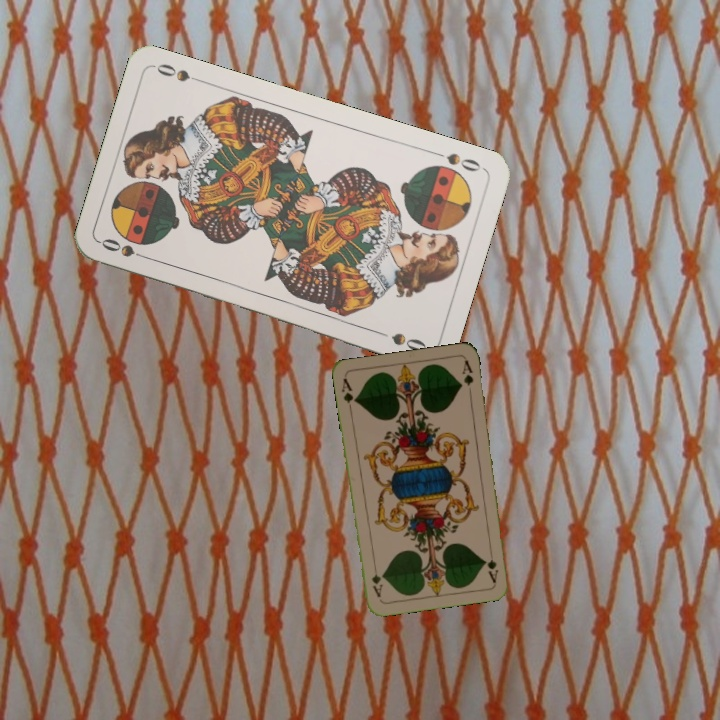GA: (337, 374, 359, 414), (484, 544, 500, 585)
SO: (97, 234, 155, 263), (429, 147, 486, 174)
